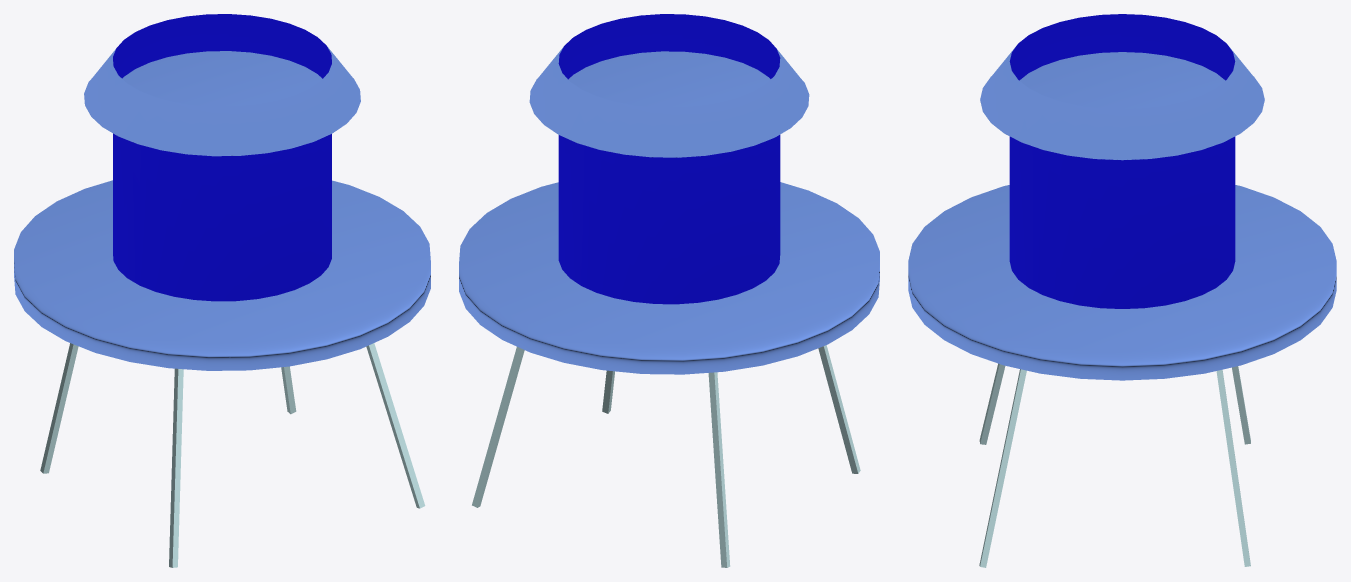
Rendered from watertower.fbx.
The picture shows the model from 3 angles, left to right: view 1: azimuth 30°, elevation 25°; view 2: azimuth 150°, elevation 25°; view 3: azimuth 270°, elevation 25°; orthographic projection. The views are drawn at different scales.
Visible parts, largest first — view 1: Cylinder; view 2: Cylinder; view 3: Cylinder.
Part boxes in pixels (box(x1,y1,x2,y2)): Cylinder: box(14, 14, 430, 567); Cylinder: box(459, 14, 879, 567); Cylinder: box(908, 14, 1336, 567).
Size of the model in its own units: 1176 by 1335 by 1176.
